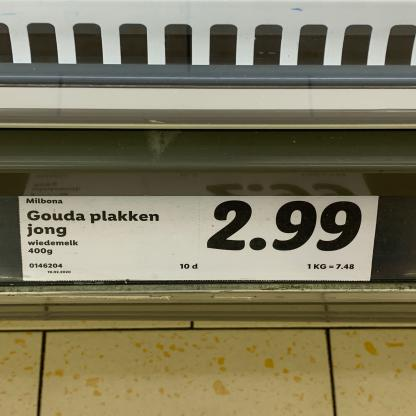prtg: (20, 196, 381, 283)
